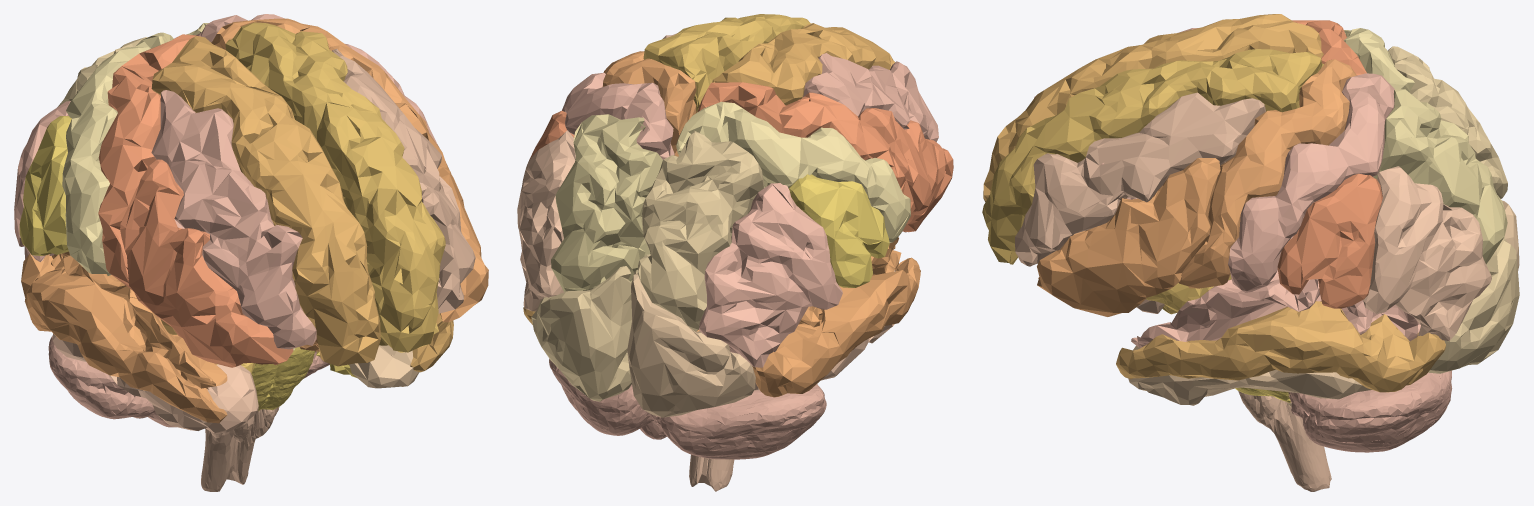
File: cervello.glb
3 renders of one model, left to right at view 1: azimuth 30°, elevation 25°; view 2: azimuth 150°, elevation 25°; view 3: azimuth 270°, elevation 25°, orthographic. The views are drawn at different scales.
Parts seen in each view (by area): view 1: left superior frontal gyrus, right superior frontal gyrus, right middle frontal gyrus, right inferior frontal gyrus, right middle temporal gyrus, right precentral gyrus, right postcentral gyrus, left middle frontal gyrus, right supramarginal gyrus, subcortex of right cerebral hemisphere, right inferior temporal gyrus, cerebellum (+9 smaller); view 2: right angular gyrus, right superior parietal lobule, left superior parietal lobule, cerebellum, right occipital lobe, right postcentral gyrus, left occipital lobe, right middle temporal gyrus, right superior frontal gyrus, right supramarginal gyrus, left angular gyrus, right precentral gyrus (+9 smaller); view 3: left superior frontal gyrus, left middle frontal gyrus, left middle temporal gyrus, left inferior frontal gyrus, left angular gyrus, left postcentral gyrus, left precentral gyrus, right superior frontal gyrus, left supramarginal gyrus, left superior parietal lobule, cerebellum, subcortex of left cerebral hemisphere (+7 smaller).
Part boxes in pixels (x1,y1,x2,y2): left superior frontal gyrus: [225, 22, 445, 352]; right superior frontal gyrus: [151, 36, 380, 366]; right middle frontal gyrus: [151, 90, 316, 349]; right inferior frontal gyrus: [120, 159, 293, 367]; right middle temporal gyrus: [21, 253, 227, 423]; right precentral gyrus: [98, 34, 200, 290]; right postcentral gyrus: [62, 32, 173, 275]; left middle frontal gyrus: [332, 49, 475, 313]; right supramarginal gyrus: [19, 116, 71, 255]; subcortex of right cerebral hemisphere: [51, 251, 319, 388]; right inferior temporal gyrus: [52, 333, 258, 433]; cerebellum: [48, 335, 329, 427]; right angular gyrus: [699, 183, 842, 367]; right superior parietal lobule: [637, 130, 765, 331]; left superior parietal lobule: [551, 114, 662, 291]; cerebellum: [549, 359, 826, 459]; right occipital lobe: [627, 273, 755, 417]; right postcentral gyrus: [676, 101, 910, 242]; left occipital lobe: [531, 266, 637, 401]; right middle temporal gyrus: [752, 257, 920, 397]; right superior frontal gyrus: [712, 23, 895, 105]; right supramarginal gyrus: [788, 174, 889, 287]; left angular gyrus: [517, 130, 575, 311]; right precentral gyrus: [697, 82, 915, 213]; left superior frontal gyrus: [982, 49, 1323, 264]; left middle frontal gyrus: [1015, 92, 1265, 266]; left middle temporal gyrus: [1116, 301, 1445, 392]; left inferior frontal gyrus: [1037, 158, 1220, 316]; left angular gyrus: [1363, 166, 1491, 341]; left postcentral gyrus: [1228, 73, 1394, 292]; left precentral gyrus: [1179, 59, 1356, 288]; right superior frontal gyrus: [983, 14, 1323, 201]; left supramarginal gyrus: [1277, 173, 1382, 308]; left superior parietal lobule: [1373, 89, 1507, 264]; cerebellum: [1288, 370, 1452, 452]; subcortex of left cerebral hemisphere: [1060, 163, 1420, 347].
Bounding box in the file's own units: 139 × 165 × 180.
